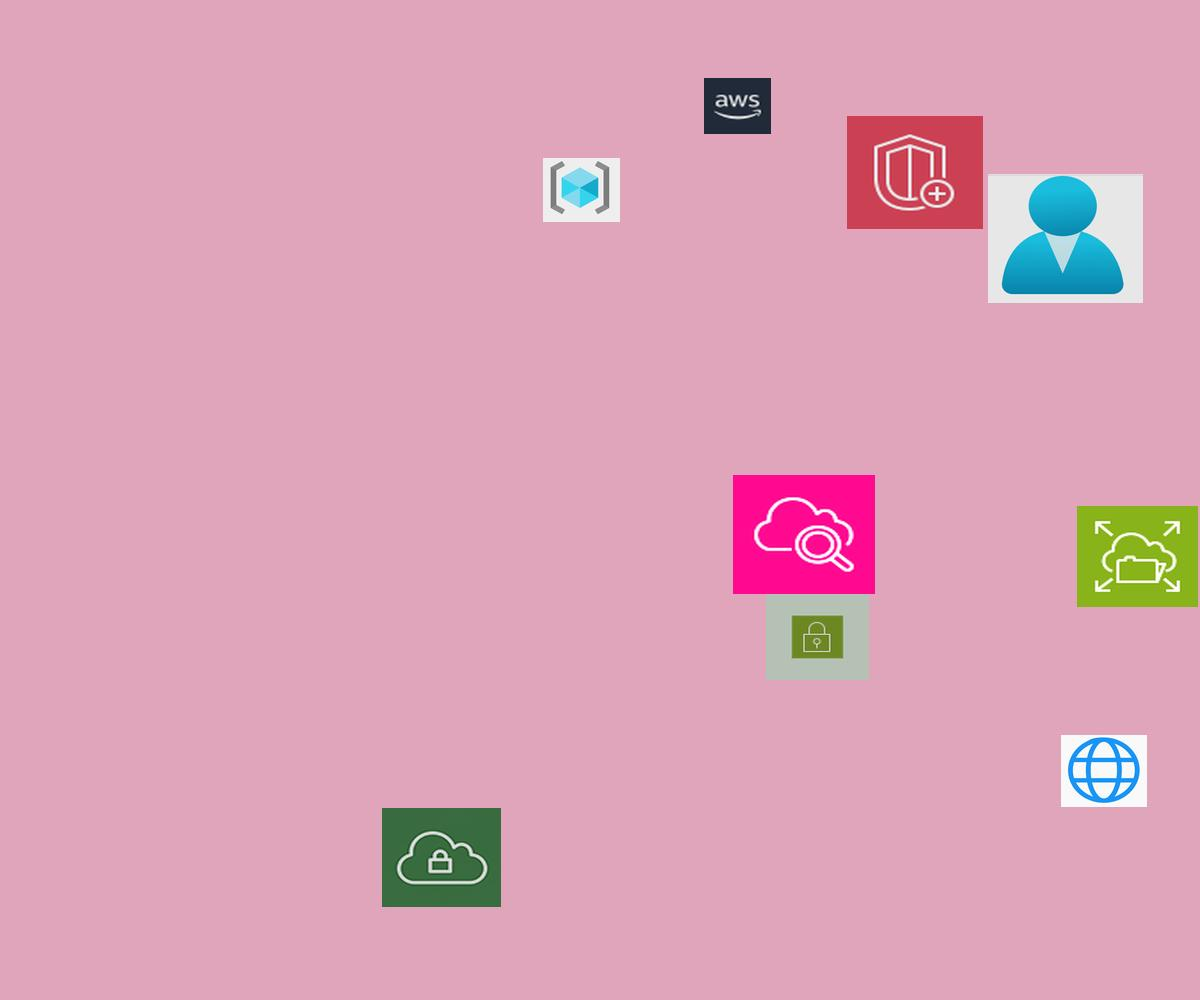AWS-Cloud-logo: (704, 78, 771, 134)
AWS-CloudWatch: (733, 475, 875, 594)
AWS-EFS: (1077, 506, 1198, 607)
AWS-Private_vpc: (382, 808, 501, 907)
AWS-Public-subnet: (766, 594, 869, 680)
AWS-Shield: (847, 116, 983, 229)
Azure_http: (1061, 735, 1147, 807)
Azure_resource_group: (543, 158, 620, 222)
Azure_users: (988, 174, 1143, 303)
